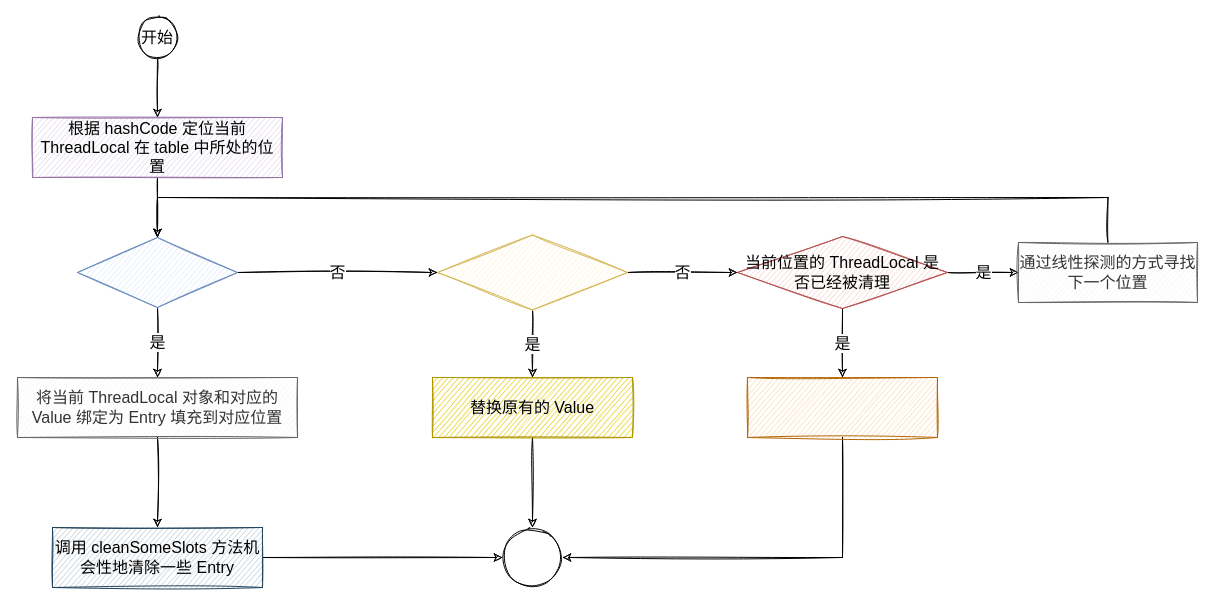
The diagram is 1215 pixels wide and 605 high, and some of its shapes have lost their labels. The shapes that lost their labels are listed below. From the top down, each one's centre as x and y in pixels, then its label:
[157,272]: 当前位置是否为 null
[532,272]: 当前位置的 ThreadLocal 与本次的是否一致
[842,407]: 调用 replaceStaleEntry 对当前位置进行替换
[532,557]: 结束
